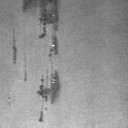slag inclusion: (21, 0, 61, 39), (37, 69, 60, 105), (11, 27, 18, 64), (48, 34, 59, 57), (23, 53, 27, 82), (38, 109, 44, 122)
